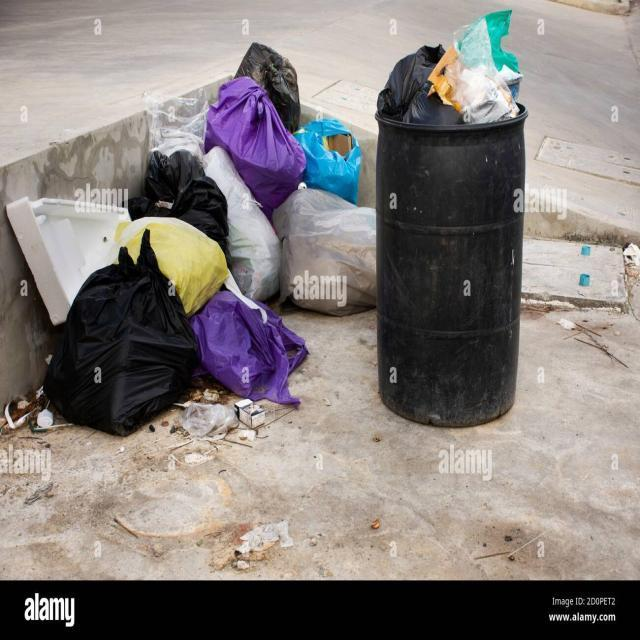Garbage: (8, 44, 376, 434), (378, 10, 522, 125)
Plastic_Bag: (44, 229, 198, 435), (205, 76, 306, 219), (190, 291, 308, 405), (272, 189, 376, 315), (202, 146, 281, 301), (115, 218, 229, 316), (129, 150, 229, 255), (378, 44, 462, 125), (235, 42, 300, 133), (294, 119, 361, 204), (144, 88, 209, 161), (454, 17, 498, 76), (484, 10, 519, 73)
Thermocol: (6, 190, 130, 325)
